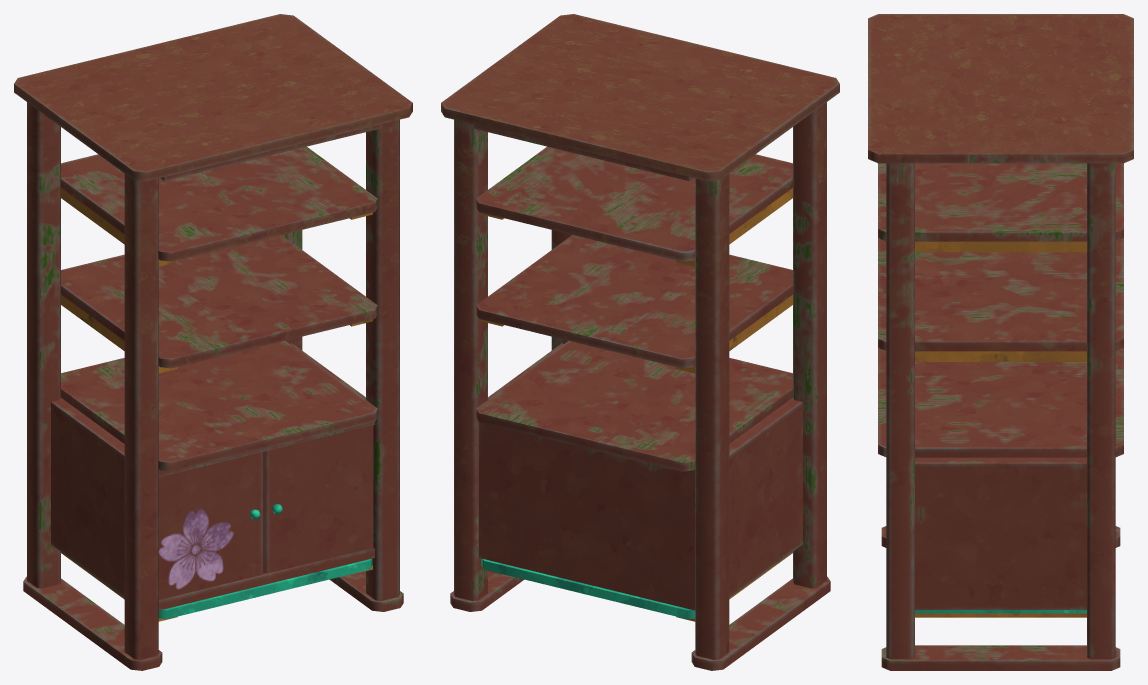
Rendered from shelf_001.fbx.
The picture shows the model from 3 angles, left to right: view 1: azimuth 30°, elevation 25°; view 2: azimuth 150°, elevation 25°; view 3: azimuth 270°, elevation 25°; orthographic projection. The views are drawn at different scales.
Visible parts, largest first — view 1: shelf_001; view 2: shelf_001; view 3: shelf_001.
Part boxes in pixels (x1,y1,x2,y2): shelf_001: [14, 14, 412, 670]; shelf_001: [441, 14, 839, 670]; shelf_001: [868, 14, 1133, 670].
Size of the model in its own units: 167 by 287 by 133.
1 material, 1 textured.
